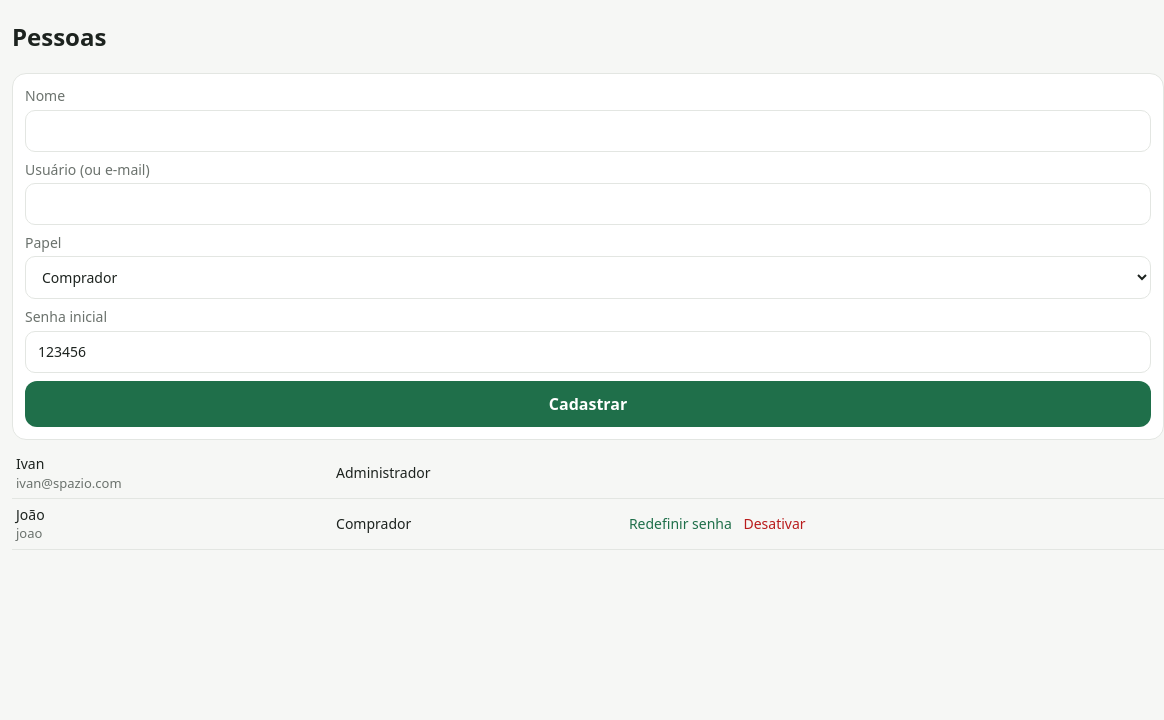
Test case: Pessoas (P1 + P3 — login com usuário + senha padrão) › cadastra pelo usuário (login mapeado no servidor) e mostra a senha inicial uma vez
Type "Maria" into the field labelled "Nome".
click(588, 131); type("Maria")  # box [25,110,1151,152]
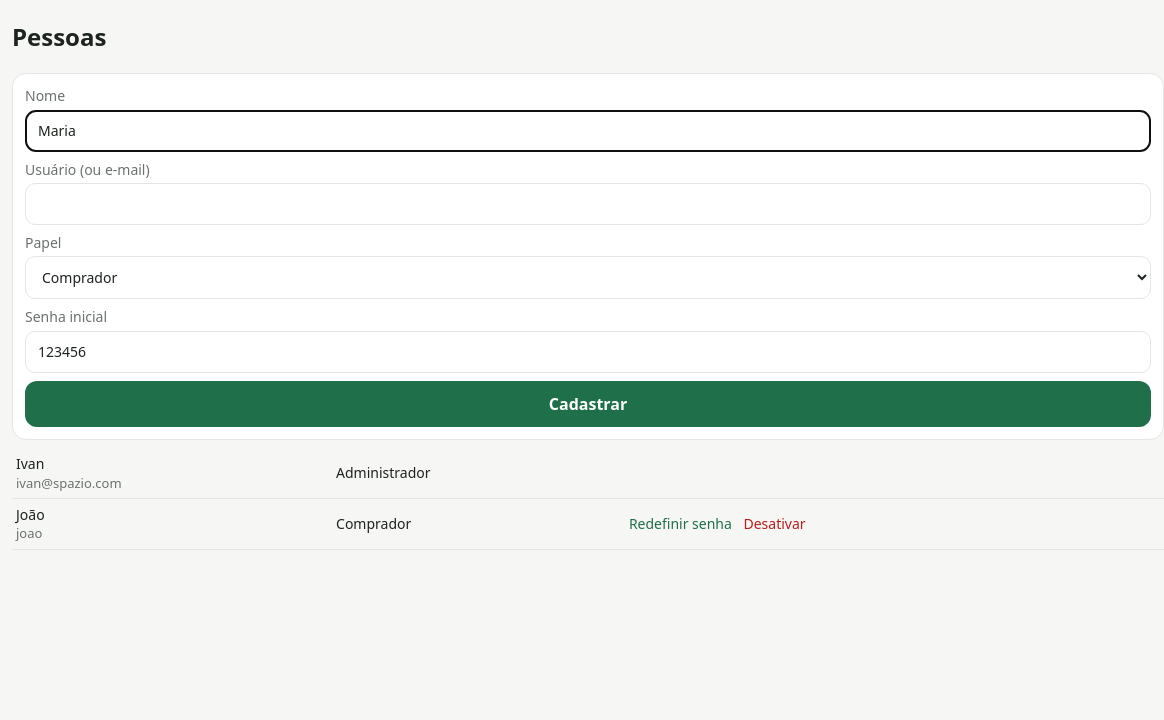
Type "Maria" into the field labelled "Usuário (ou e-mail)".
click(588, 204); type("Maria")  # box [25,183,1151,225]
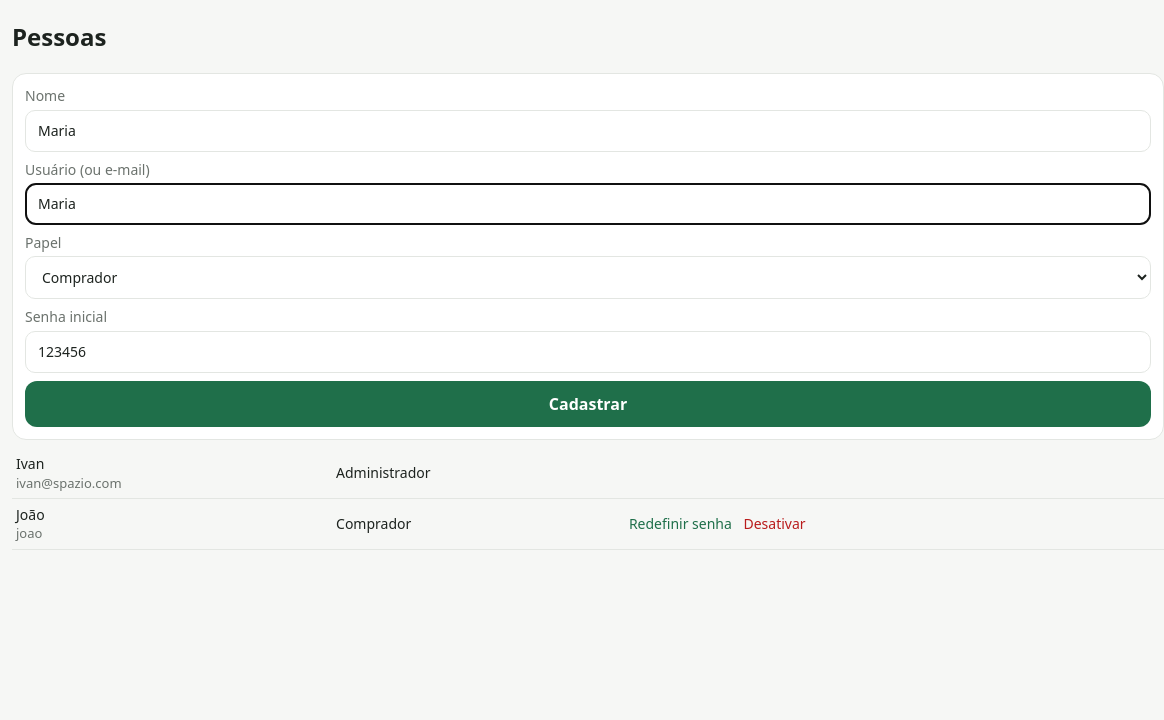
Click the button "Cadastrar".
click(588, 404)  # box [25,381,1151,427]
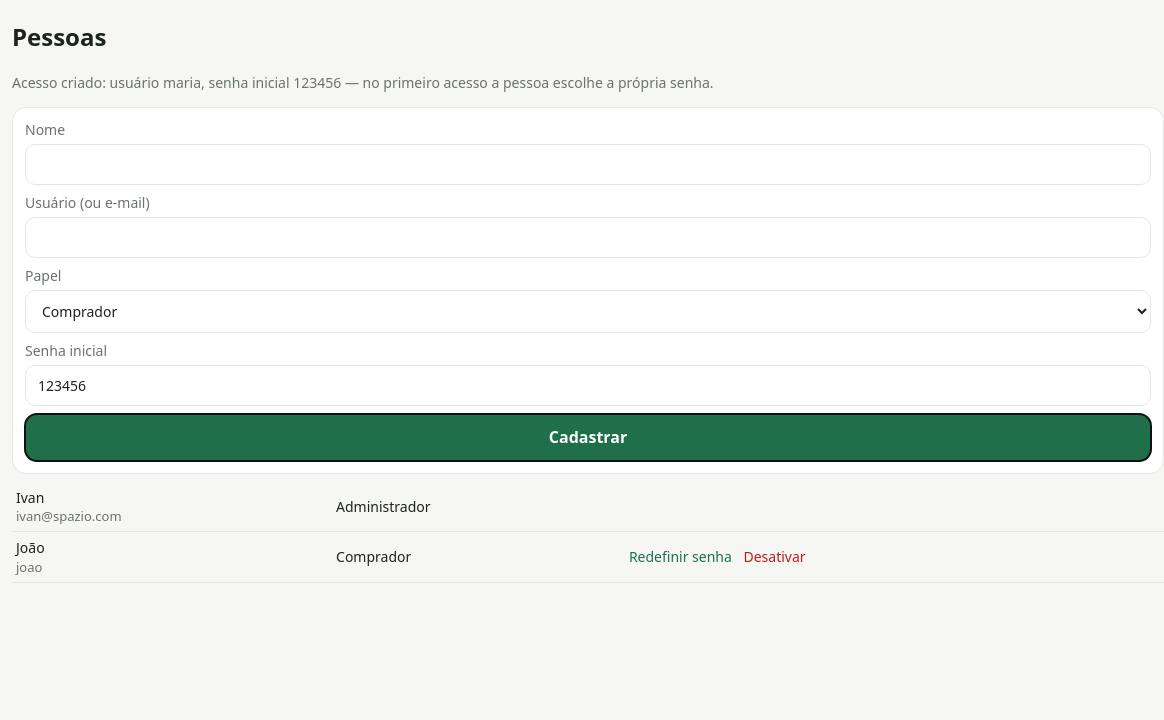
expect the text "Acesso criado: usuário maria, senha inicial 123456 — no primeiro acesso a pessoa escolhe a própria senha." is shown: met, box [12,73,714,92]
